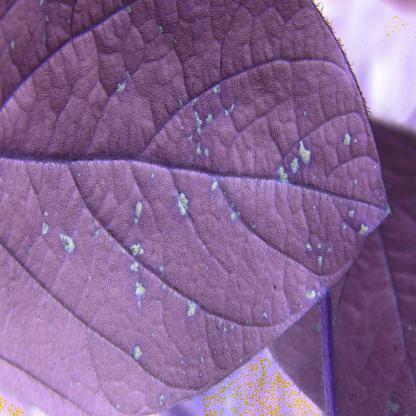Soybean leaf: (2, 0, 393, 414)
